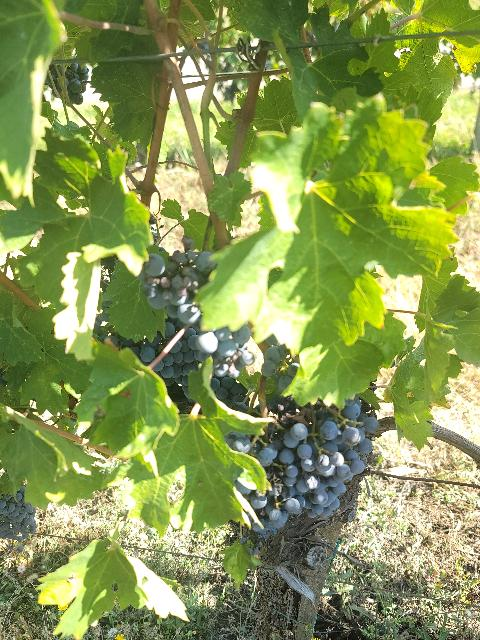grapes: (225, 422, 330, 536), (305, 402, 379, 495), (140, 236, 215, 324)
